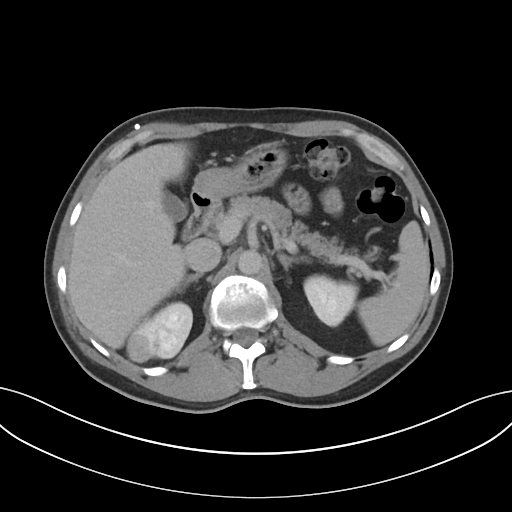Lesion: (123, 321, 162, 366)
